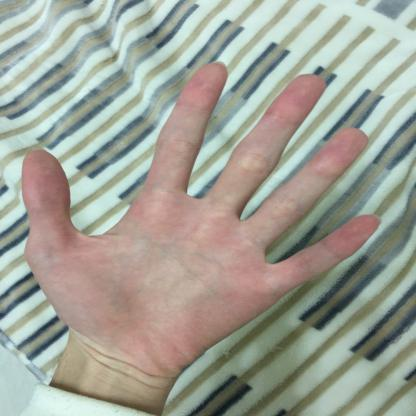bare_hand: (13, 52, 392, 382)
